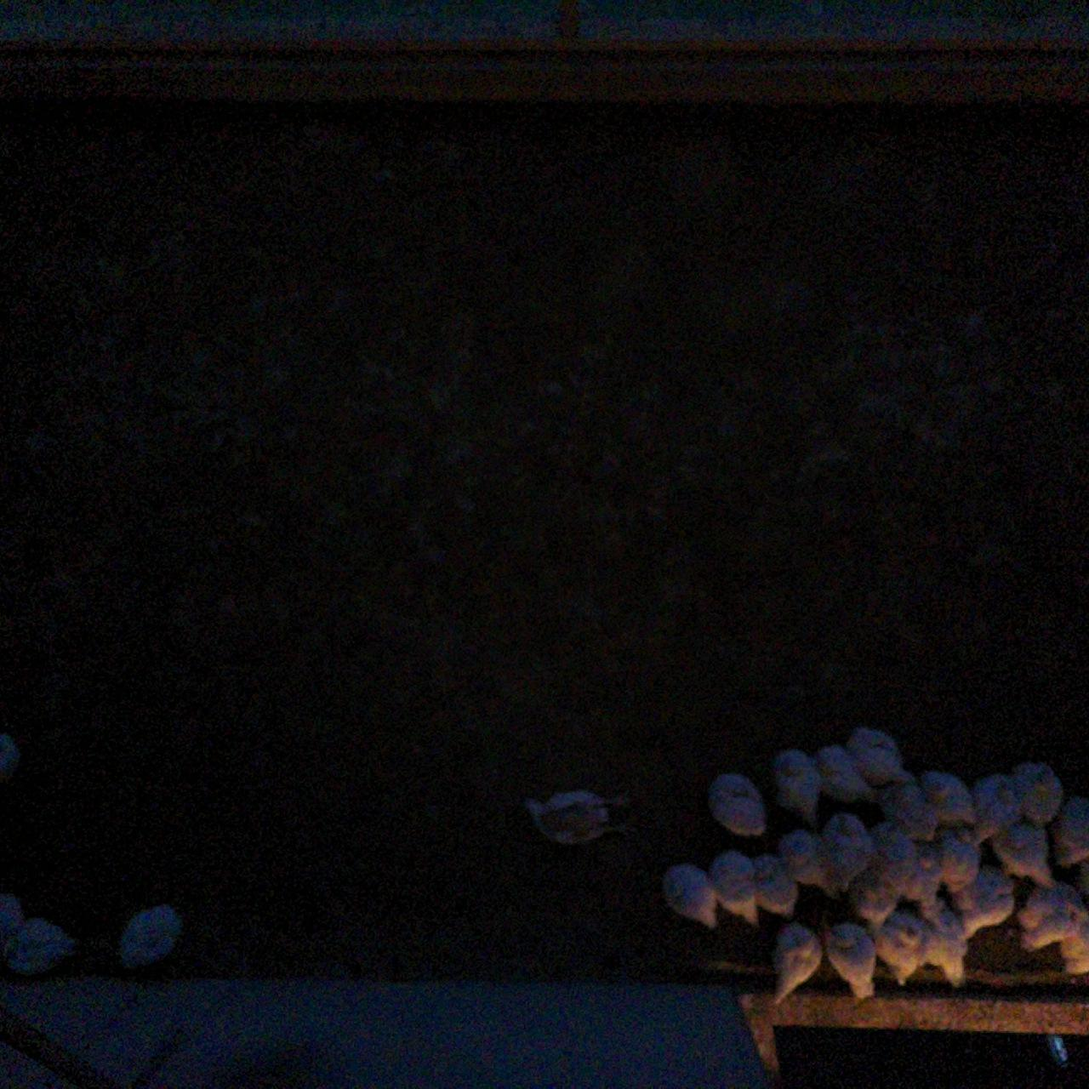chicken: (519, 783, 647, 848), (1013, 875, 1088, 955), (874, 904, 938, 992), (116, 901, 190, 977), (701, 765, 770, 844), (703, 842, 764, 931), (822, 916, 885, 1002), (872, 770, 941, 846), (770, 919, 828, 1009), (965, 771, 1031, 847), (821, 810, 876, 901), (952, 860, 1016, 938), (846, 724, 920, 791), (918, 898, 972, 989), (0, 915, 77, 978), (864, 814, 921, 898), (661, 858, 722, 935), (805, 742, 881, 803), (777, 825, 838, 900), (1004, 758, 1069, 827), (989, 818, 1051, 889), (772, 746, 825, 828), (841, 865, 900, 934), (747, 849, 802, 923), (933, 827, 988, 895), (1047, 790, 1089, 872), (919, 766, 974, 826), (898, 838, 942, 910), (1056, 908, 1089, 976), (0, 721, 28, 789), (0, 888, 24, 958)
